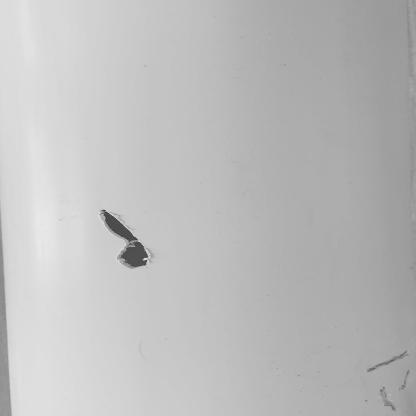fengxi: (365, 350, 413, 370), (378, 389, 397, 409), (400, 367, 413, 394)
kongdong: (94, 209, 156, 271)
